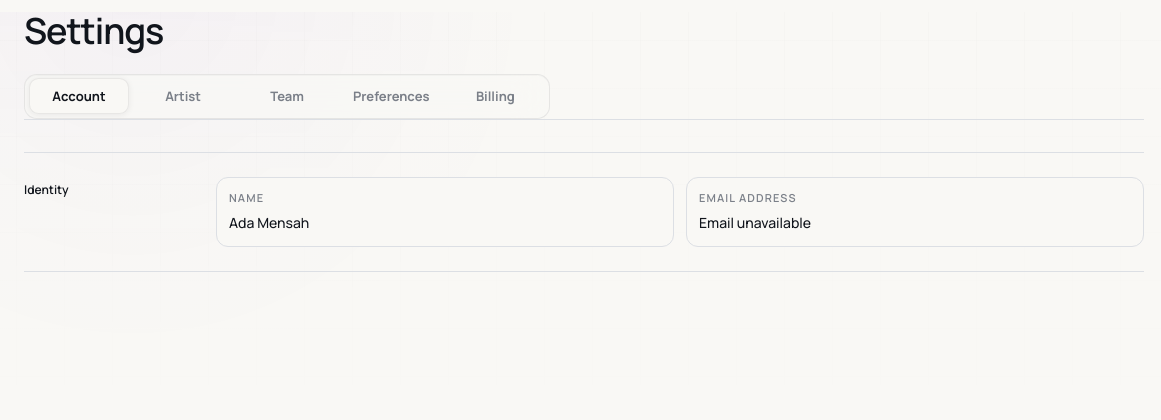
Test: SettingsScreen › keeps team identity, signed-in identity, and the billing plan distinct
The width and height of the screenshot is (1161, 420).
Check: the field labelled "Name" holds "Ada Mensah", box [229,212,661,233]
Click the tab "Billing".
click(495, 96)  # box [445,78,546,114]
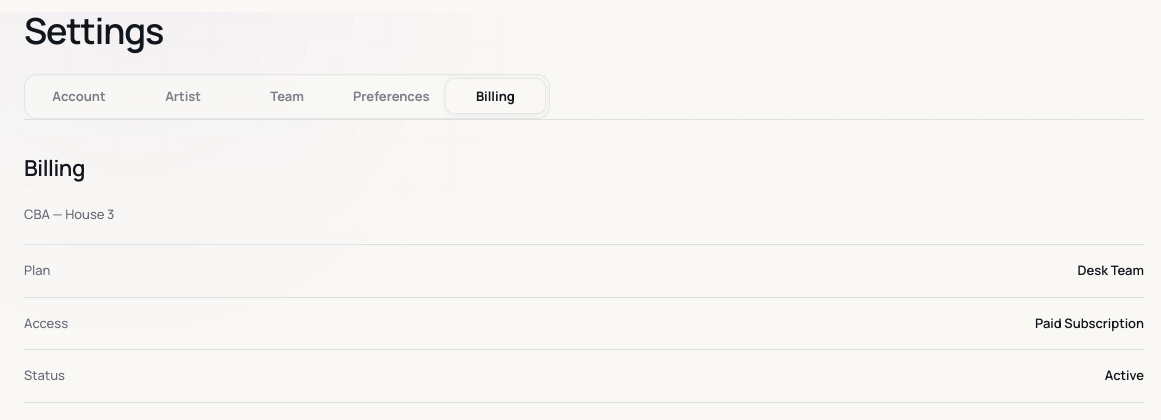
Check: the text "Desk Team" is shown, box [1078,261,1144,281]
Check: the text "CBA — House 3" is shown, box [24,205,114,223]
Click the tab "Account".
click(79, 96)  # box [28,78,129,114]
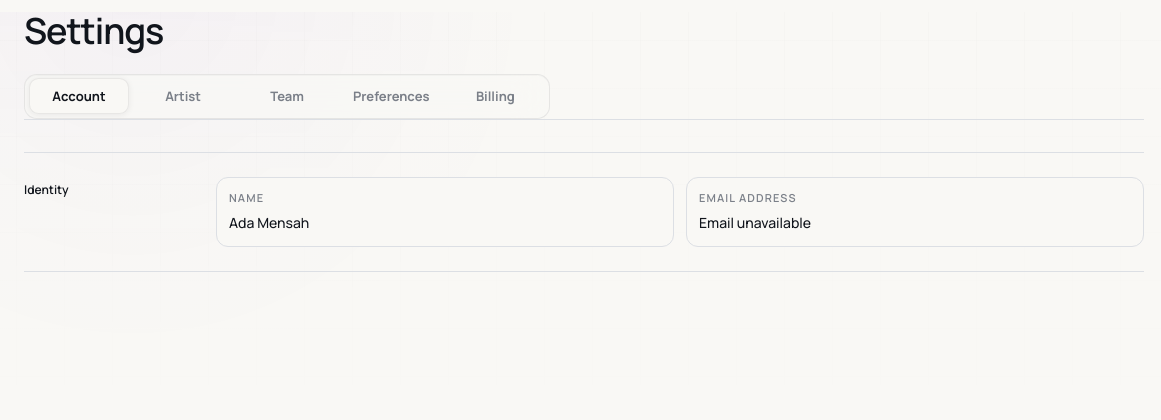
Check: the field labelled "Name" holds "Ada Mensah", box [229,212,661,233]
